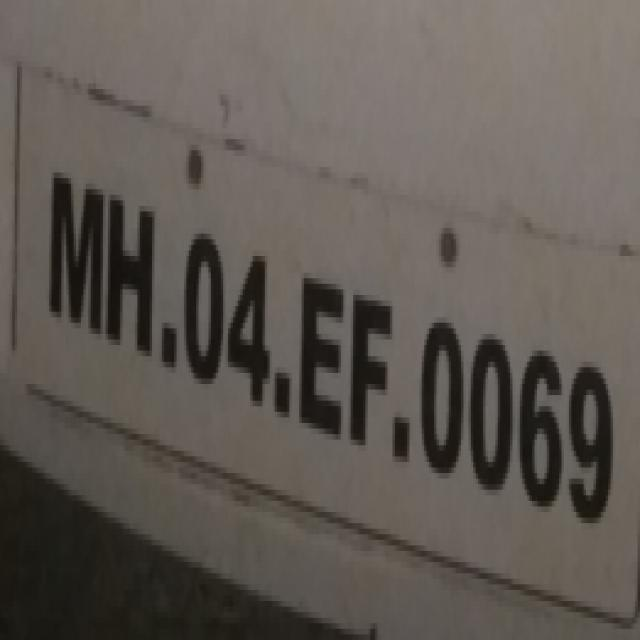0: (468, 314, 516, 500), (418, 301, 466, 479), (178, 220, 225, 393)
4: (228, 240, 273, 422)
6: (518, 337, 568, 516)
9: (566, 352, 619, 540)
E: (294, 262, 348, 450)
F: (352, 277, 396, 463)
H: (102, 167, 156, 360)
M: (44, 154, 106, 350)
